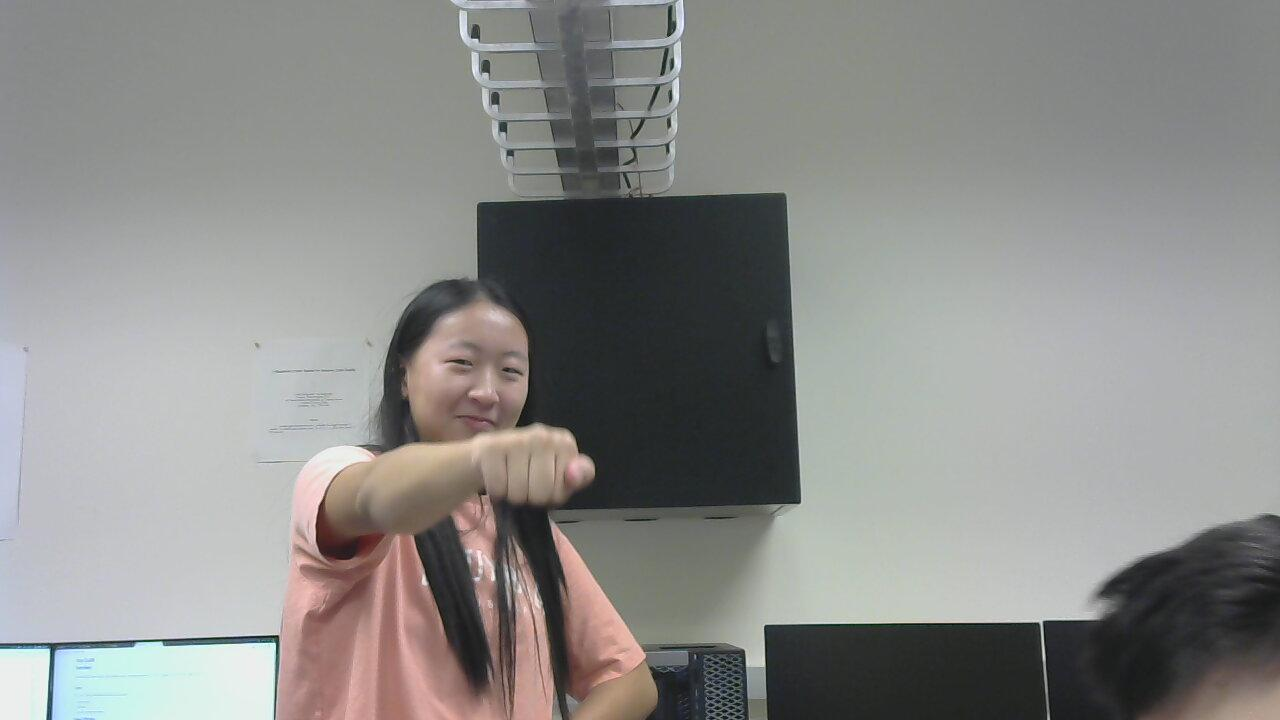fist: (463, 412, 610, 531)
